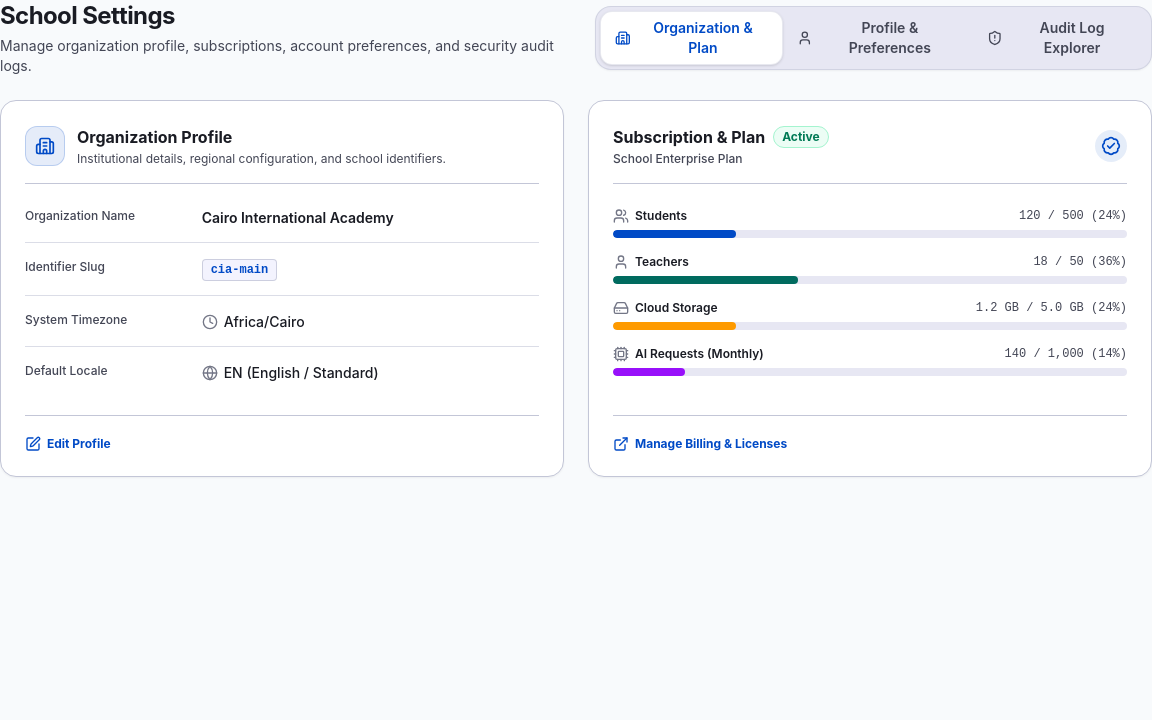
Scenario: SettingsPage (Org Settings, Profile & Audit Log Stitch Clone) › opens Edit Organization drawer and updates profile
Click the button "Edit Profile" at coordinates (68, 444), box [25,436,111,452]
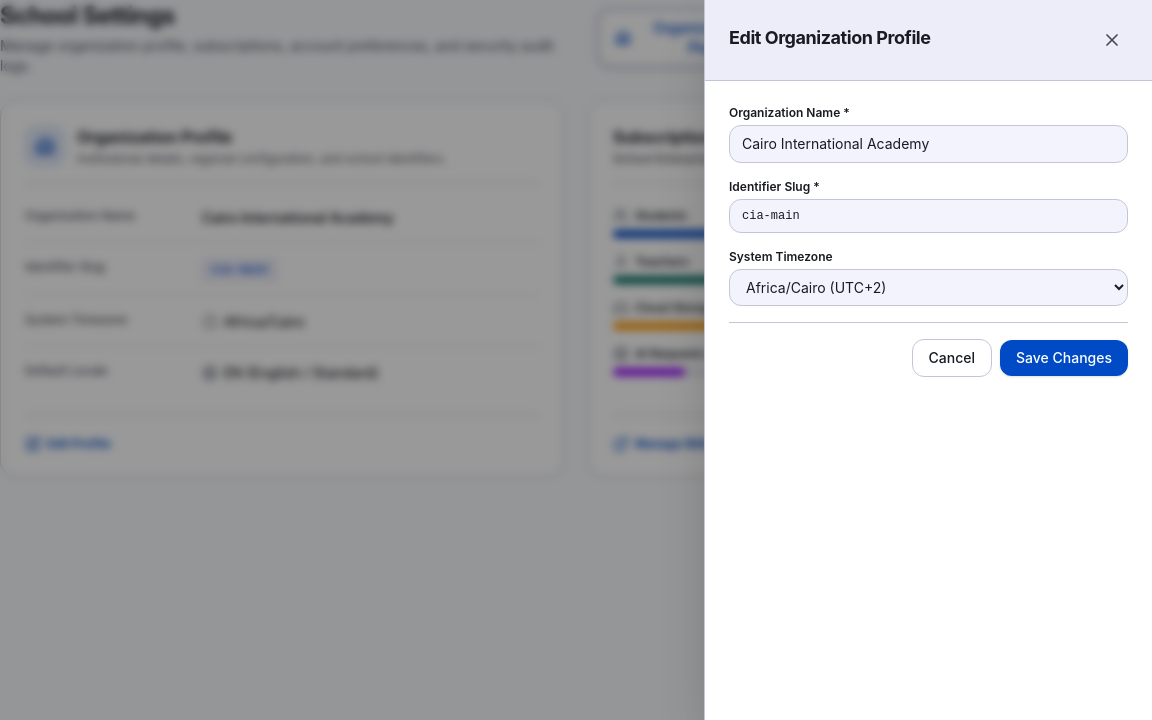
Check: the heading "Edit Organization Profile" is shown, box [729,24,931,52]
Replace the text in the 1st field showing "Cairo International Academy" with "New Cairo Academy" at coordinates (928, 144), box [729,125,1128,163]
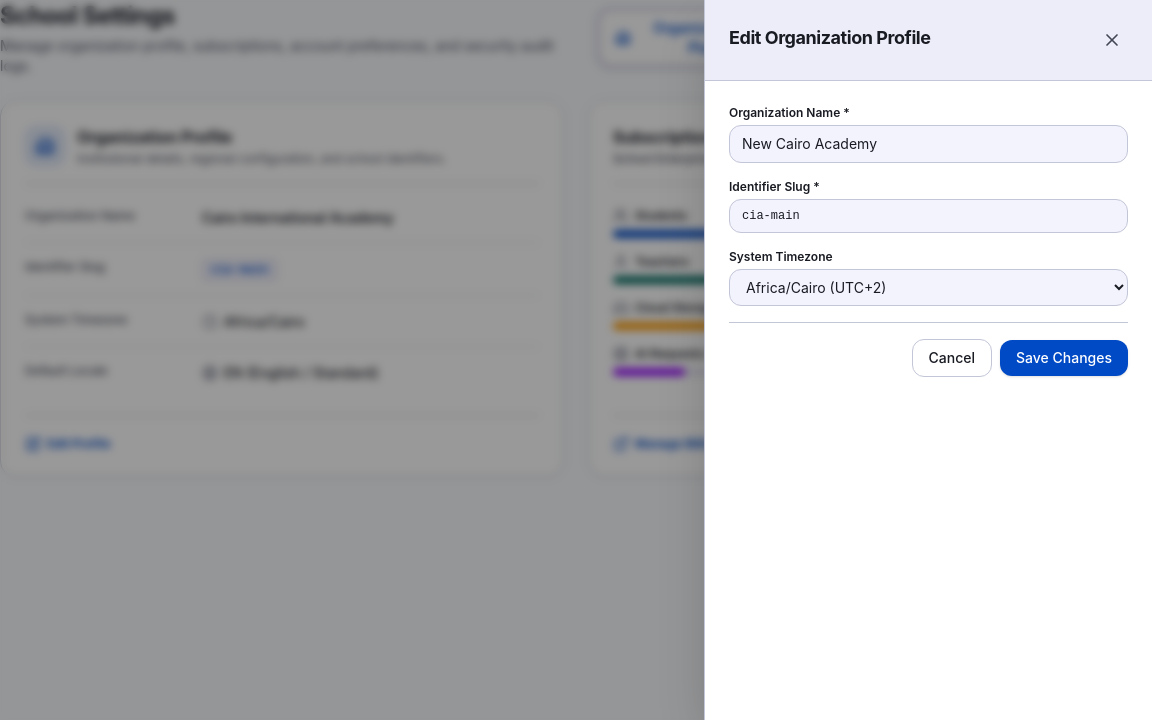
Click the button "Save Changes" at coordinates (1064, 358), box [1000,340,1128,376]
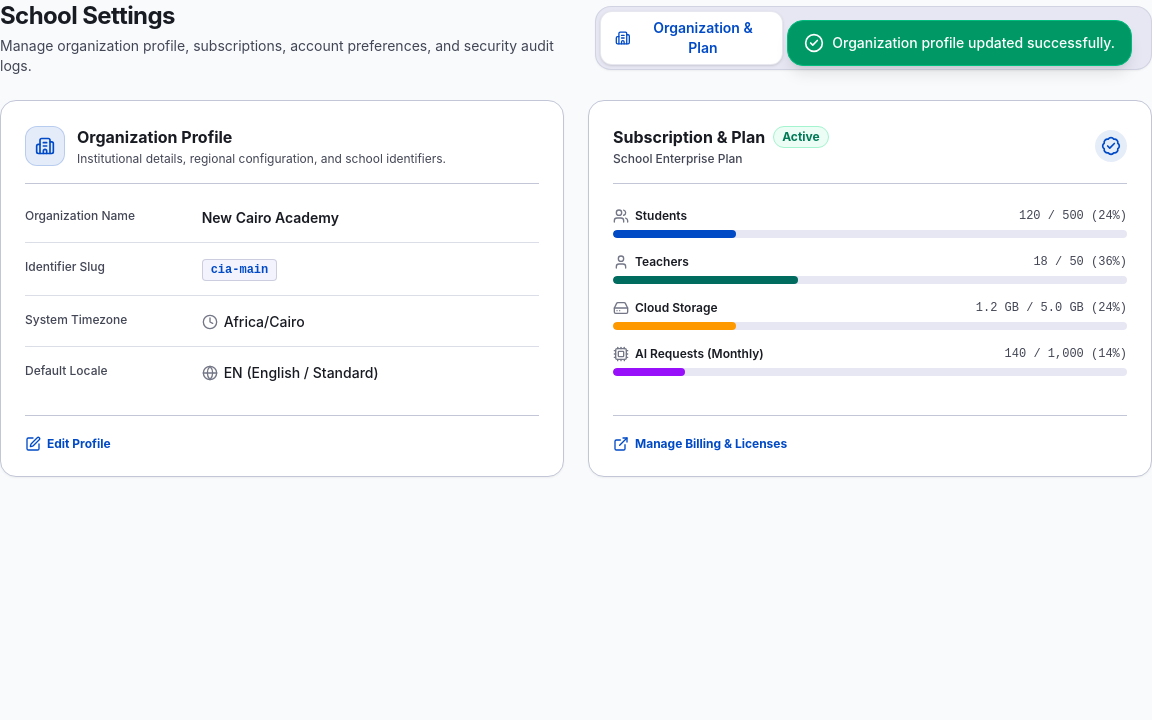
Check: the text "New Cairo Academy" is shown, box [202,209,339,226]
